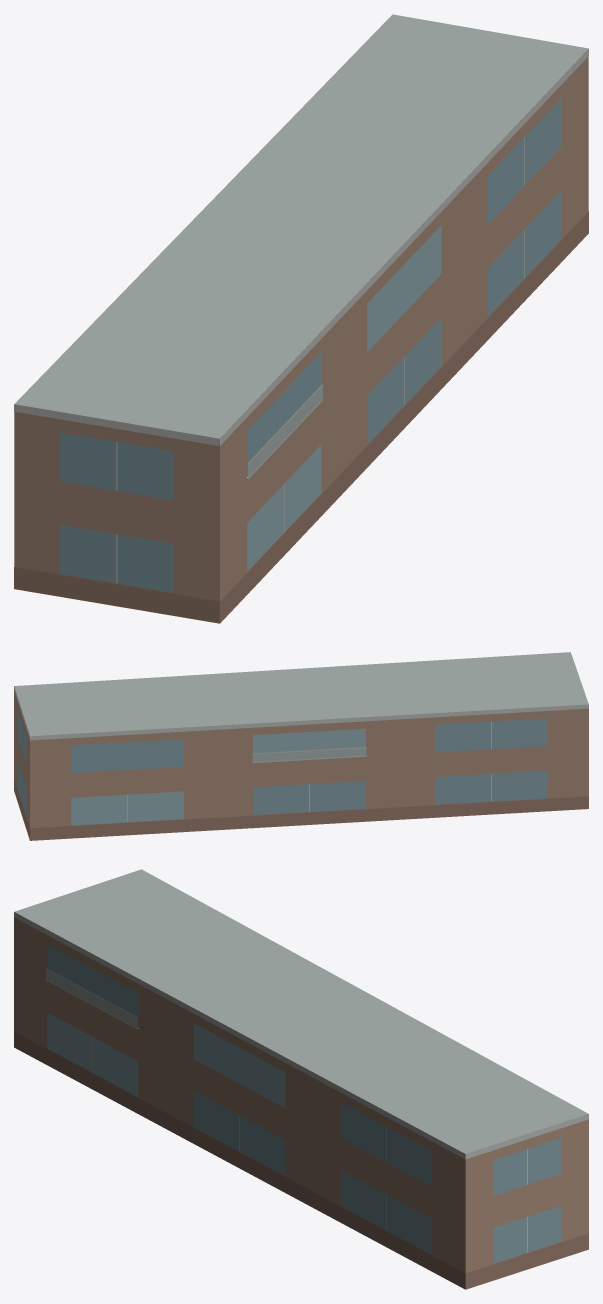
File: survey-upis-32582547.glb
3 renders of one model, top to bottom at view 1: azimuth 30°, elevation 25°; view 2: azimuth 150°, elevation 25°; view 3: azimuth 270°, elevation 25°, orthographic. The views are drawn at different scales.
Visible parts, largest first — view 1: survey-upis-32582547.tmp; view 2: survey-upis-32582547.tmp; view 3: survey-upis-32582547.tmp.
Boxes of the visible parts, <box> form: survey-upis-32582547.tmp: <box>14,14,588,623</box>; survey-upis-32582547.tmp: <box>14,652,588,840</box>; survey-upis-32582547.tmp: <box>14,869,588,1289</box>.
Size of the model in its own units: 27.48 by 6.1 by 23.44.
